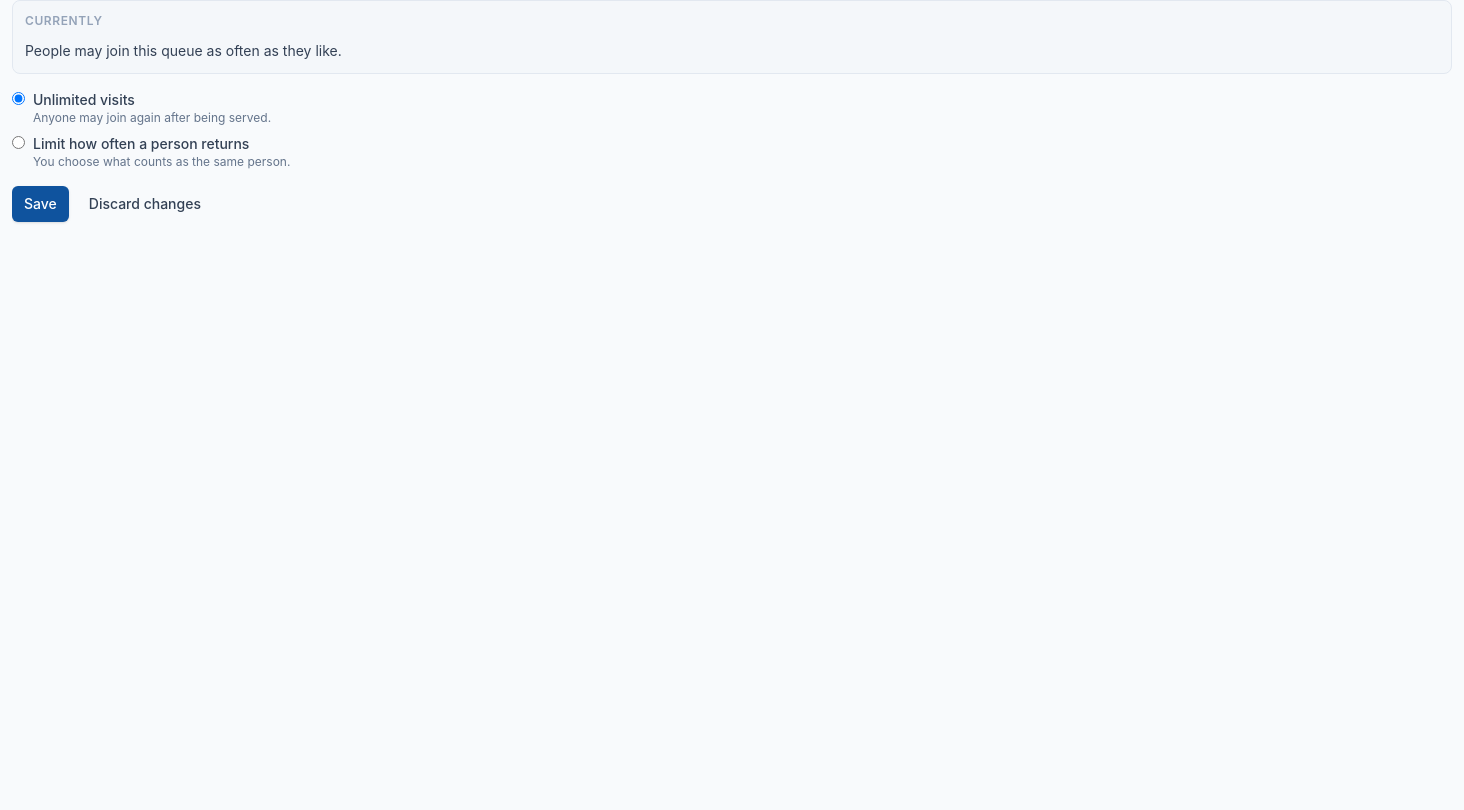
Test: RepeatVisitPolicy — repeat restriction scope (ADR-049) › offers per-session only when the weekly schedule is on
The width and height of the screenshot is (1464, 810).
Click the radio button labelled "Limit how often a person returns": click(18, 142) [12,136,25,149]
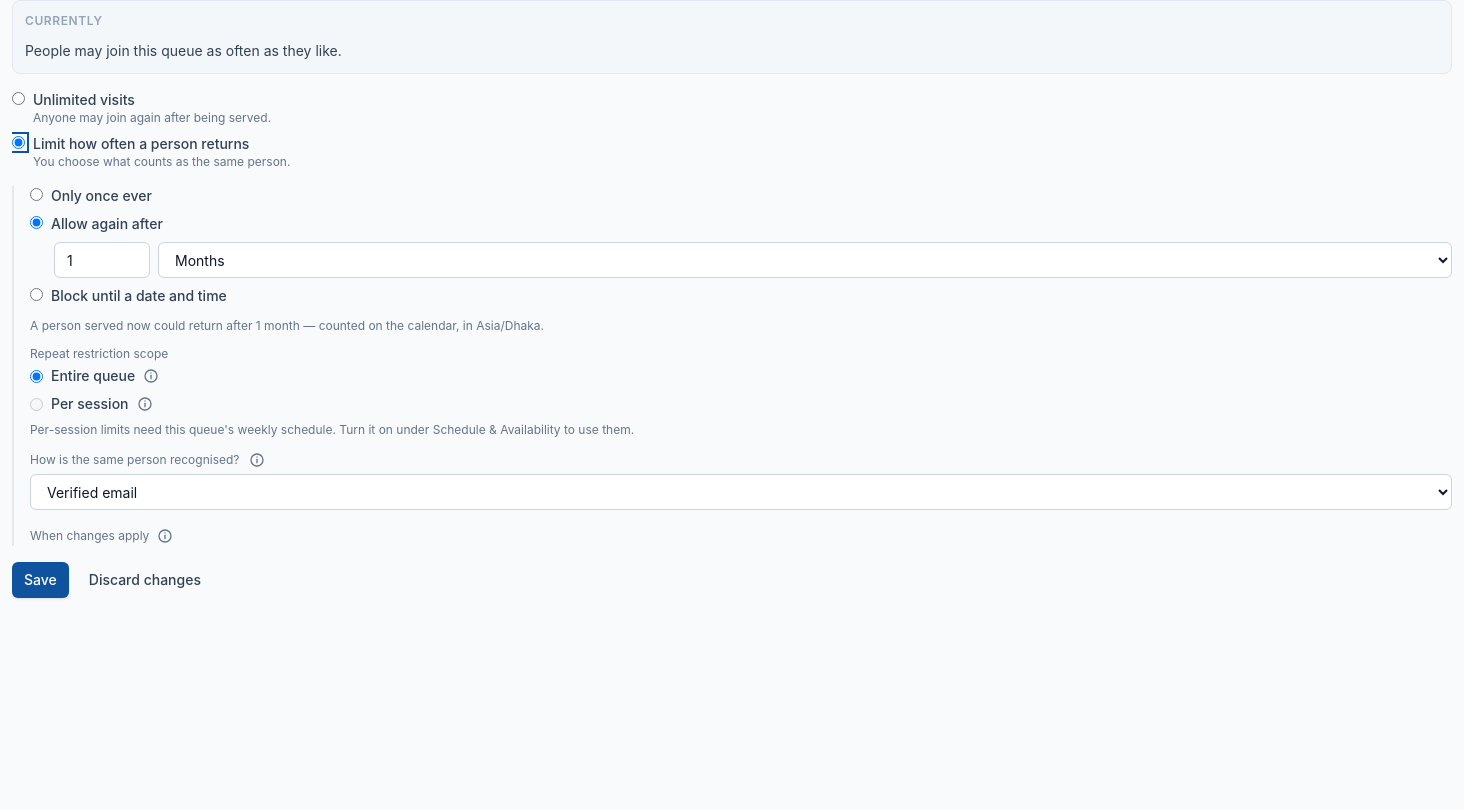
Expected: the radio button labelled "Per session" is disabled, [30,398,43,410]
Expected: the text "Per-session limits need this queue" is shown, [30,422,634,437]
